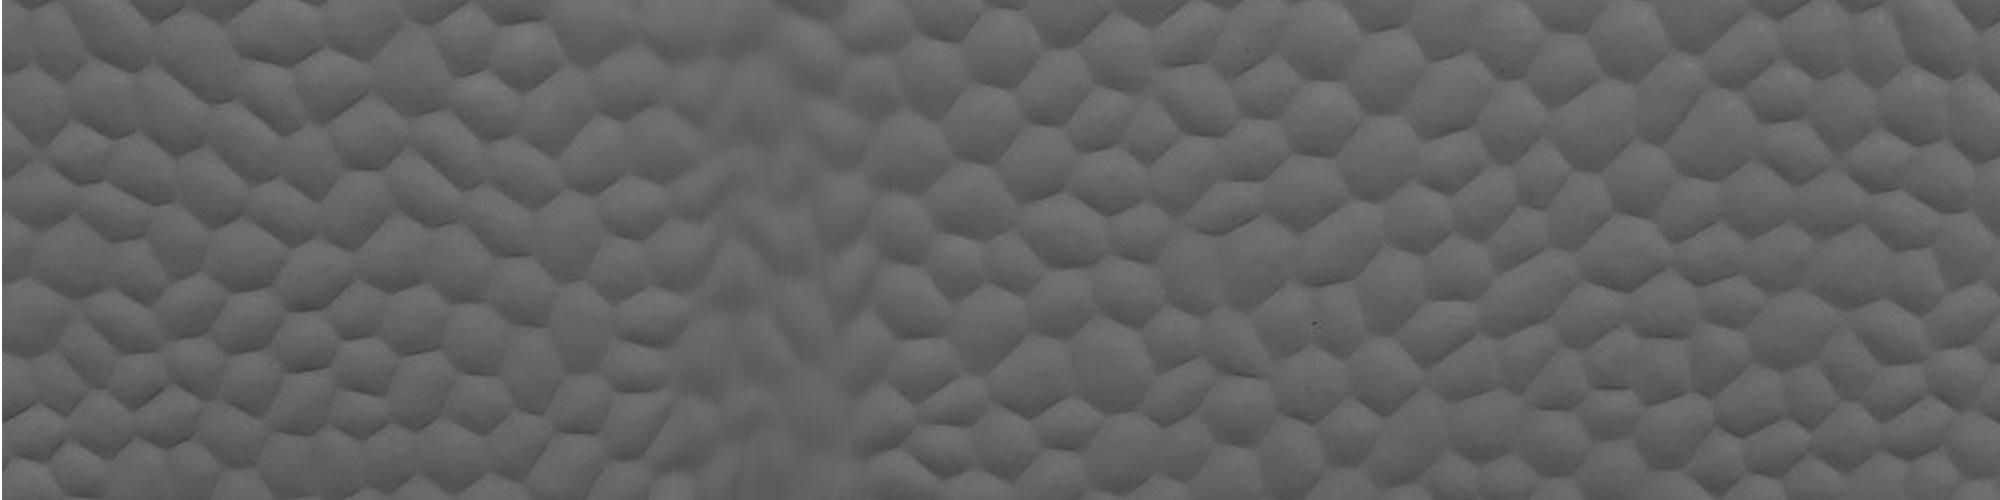Flow_Lines: (608, 14, 889, 496)
